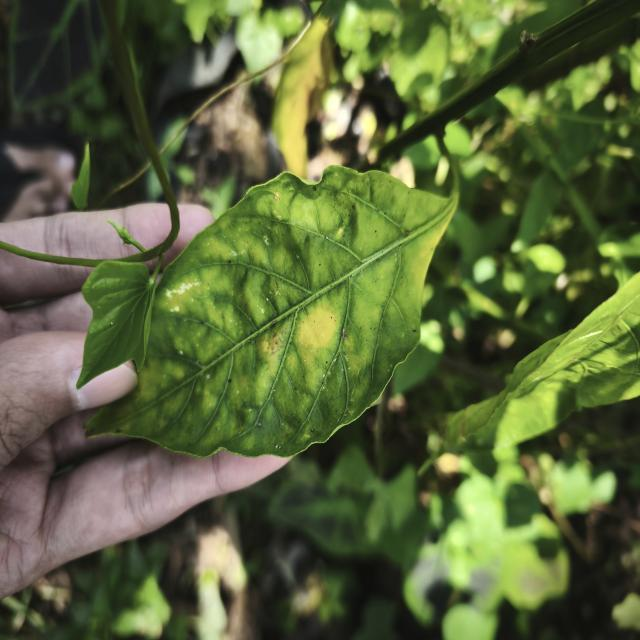Virus Kuning: (78, 164, 460, 460)
